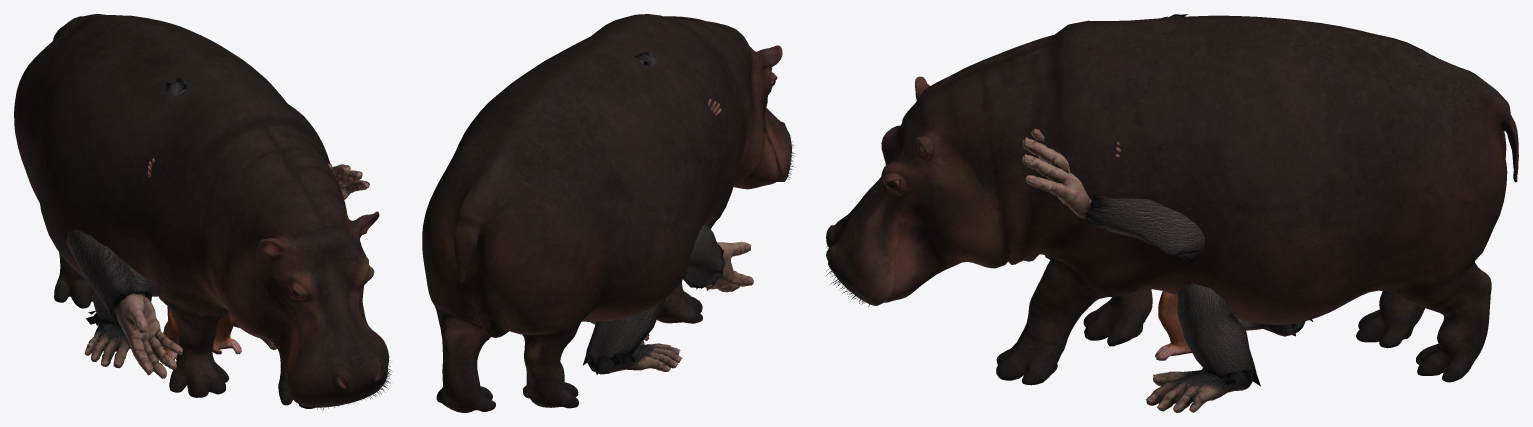
File: zoo_more.glb
3 renders of one model, left to right at view 1: azimuth 30°, elevation 25°; view 2: azimuth 150°, elevation 25°; view 3: azimuth 270°, elevation 25°, orthographic. The views are drawn at different scales.
Visible parts, largest first — view 1: hippo, gorilla, orangutan; view 2: hippo, gorilla; view 3: hippo, gorilla, orangutan.
Part boxes in pixels (x1,y1,x2,y2): hippo: (14,14,392,410); gorilla: (66,77,369,378); orangutan: (147,158,241,366); hippo: (422,14,794,412); gorilla: (582,52,753,374); hippo: (826,15,1518,385); gorilla: (1022,14,1312,412); orangutan: (1115,142,1191,360).
Size of the model in its own units: 1.21 by 1.5 by 2.82.
Materials: 3 (3 with a texture image).
